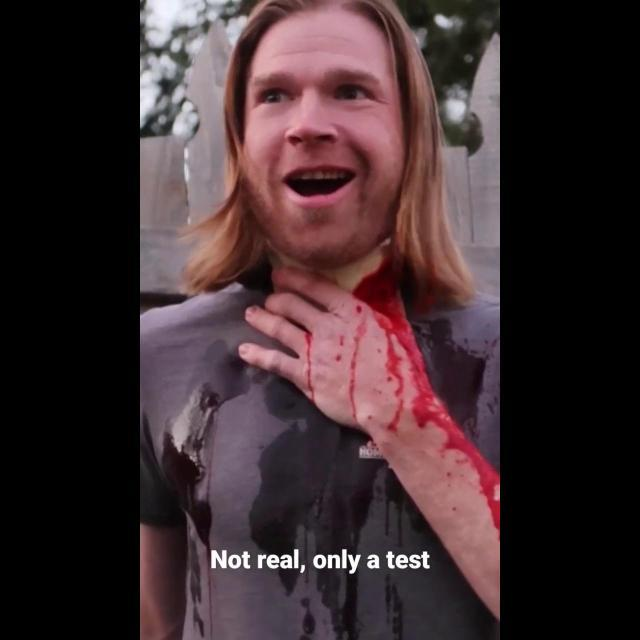blood: (352, 260, 500, 531), (340, 314, 366, 429), (292, 331, 319, 409), (355, 304, 364, 316)
